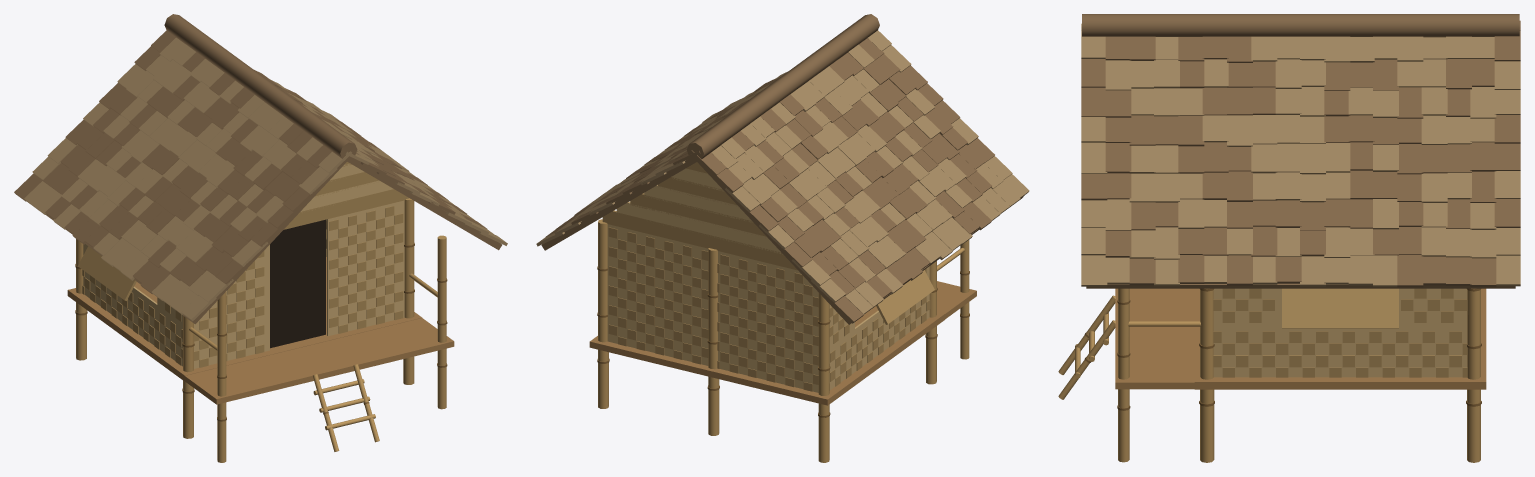
The model's file is hut.glb.
The picture shows the model from 3 angles, left to right: view 1: azimuth 30°, elevation 25°; view 2: azimuth 150°, elevation 25°; view 3: azimuth 270°, elevation 25°; orthographic projection. The views are drawn at different scales.
Visible parts, largest first — view 1: thatch_70, thatch2_71, floor_21, dark_67, weave_64, weave2_65, thatch2_72, weave_48, floor_20, weave2_49, weave_35, weave2_36 (+11 smaller); view 2: thatch_70, thatch2_71, weave_32, weave2_33, thatch2_72, floor_20, weave2_73, weave_35, weave_74, weave2_36, bamboo_8, bamboo_0 (+11 smaller); view 3: thatch_70, thatch2_71, thatch2_72, weave_51, floor_21, weave2_52, floor_20, weave2_63, bamboo_16, bamboo_12, bamboo_27, weave_60 (+6 smaller).
Boxes of the visible parts, left/top/right/bottom form: thatch_70: left=24, top=37, right=507, bottom=321; thatch2_71: left=14, top=30, right=486, bottom=294; floor_21: left=184, top=318, right=454, bottom=404; dark_67: left=270, top=219, right=325, bottom=348; weave_64: left=327, top=200, right=404, bottom=336; weave2_65: left=329, top=206, right=403, bottom=333; thatch2_72: left=164, top=14, right=357, bottom=160; weave_48: left=194, top=245, right=269, bottom=368; floor_20: left=67, top=257, right=422, bottom=381; weave2_49: left=194, top=251, right=264, bottom=367; weave_35: left=83, top=251, right=182, bottom=366; weave2_36: left=82, top=270, right=182, bottom=365; thatch_70: left=536, top=30, right=1029, bottom=313; thatch2_71: left=546, top=38, right=994, bottom=323; weave_32: left=607, top=224, right=818, bottom=392; weave2_33: left=608, top=227, right=818, bottom=391; thatch2_72: left=686, top=14, right=879, bottom=160; floor_20: left=589, top=306, right=944, bottom=405; weave2_73: left=602, top=210, right=797, bottom=270; weave_35: left=829, top=275, right=929, bottom=389; weave_74: left=616, top=202, right=783, bottom=254; weave2_36: left=829, top=296, right=930, bottom=390; bamboo_8: left=708, top=248, right=719, bottom=435; bamboo_0: left=818, top=293, right=829, bottom=462; thatch_70: left=1081, top=23, right=1520, bottom=286; thatch2_71: left=1081, top=20, right=1520, bottom=287; thatch2_72: left=1082, top=14, right=1519, bottom=37; weave_51: left=1213, top=324, right=1467, bottom=377; floor_21: left=1115, top=288, right=1198, bottom=389; weave2_52: left=1213, top=331, right=1467, bottom=377; floor_20: left=1194, top=288, right=1486, bottom=389; weave2_63: left=1282, top=288, right=1398, bottom=328; bamboo_16: left=1200, top=288, right=1214, bottom=462; bamboo_12: left=1467, top=288, right=1480, bottom=462; bamboo_27: left=1118, top=288, right=1129, bottom=462; weave_60: left=1213, top=288, right=1281, bottom=324.
Size of the model in its own units: 5.51 by 5.01 by 5.54.
